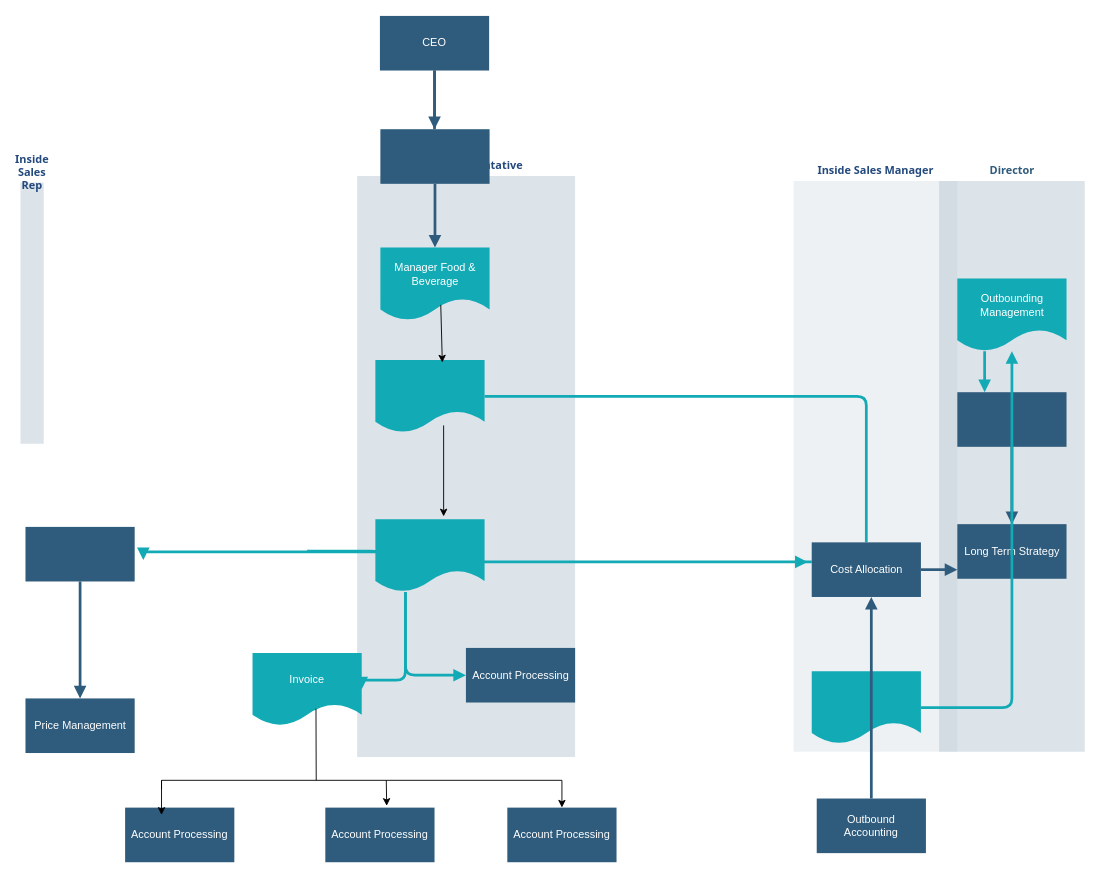
This 1101x877 diagram has some shape labels left out. Each missing label, with the box of its shape:
Assistant Manager Food & Beverage: (375, 359, 484, 432)
Credit Management: (25, 526, 134, 581)
Director Food & Beverage: (380, 129, 489, 183)
Product Delivery Notification: (375, 519, 484, 592)
Resources Allocation: (957, 392, 1066, 446)
Sales Contract: (811, 671, 920, 743)
